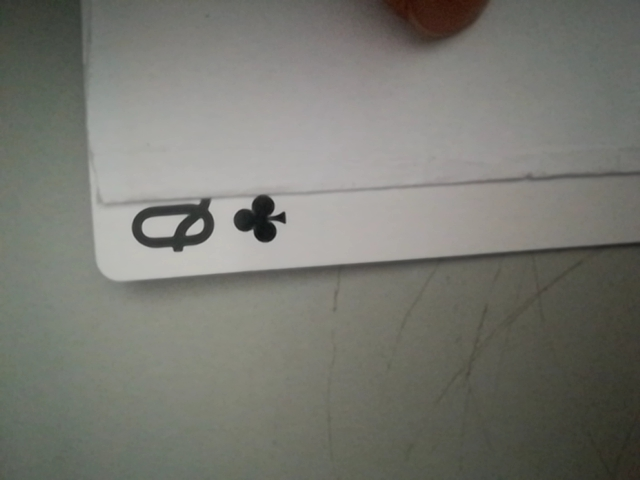mh q: (104, 189, 286, 265)
